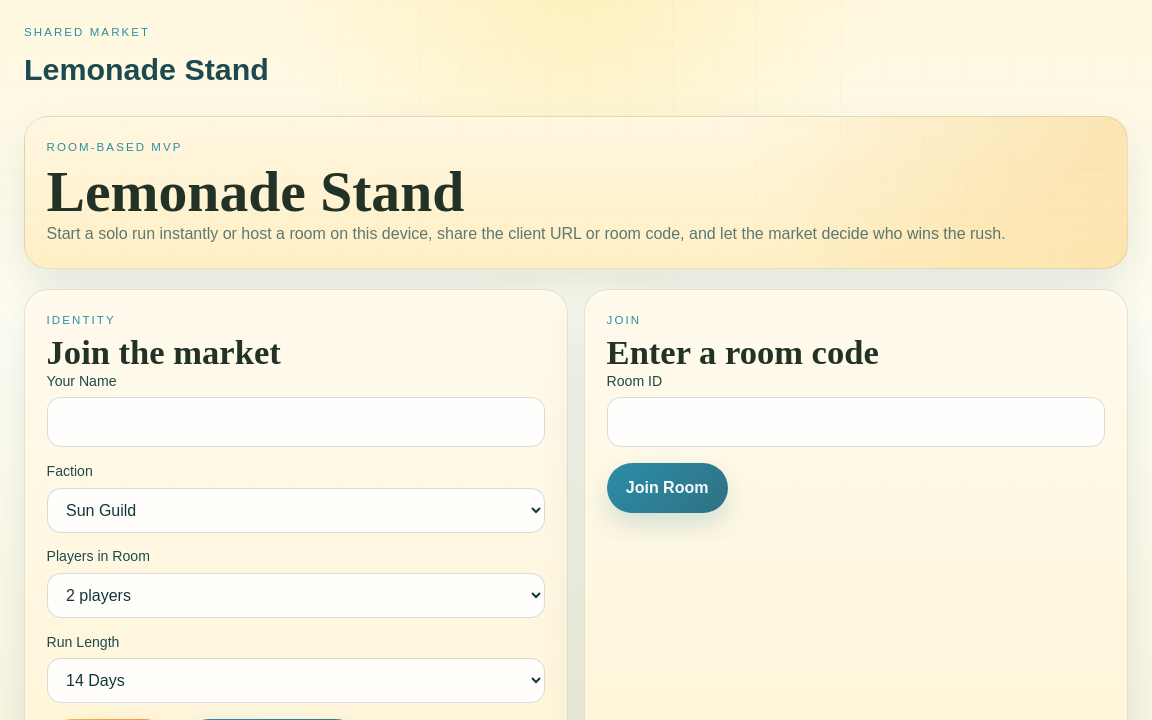
App › shows room wording in the waiting room after the host creates a room
Type "Alex" into the field labelled "Your Name" at coordinates (296, 422), box [47,397,545,447]
(page scrolled)
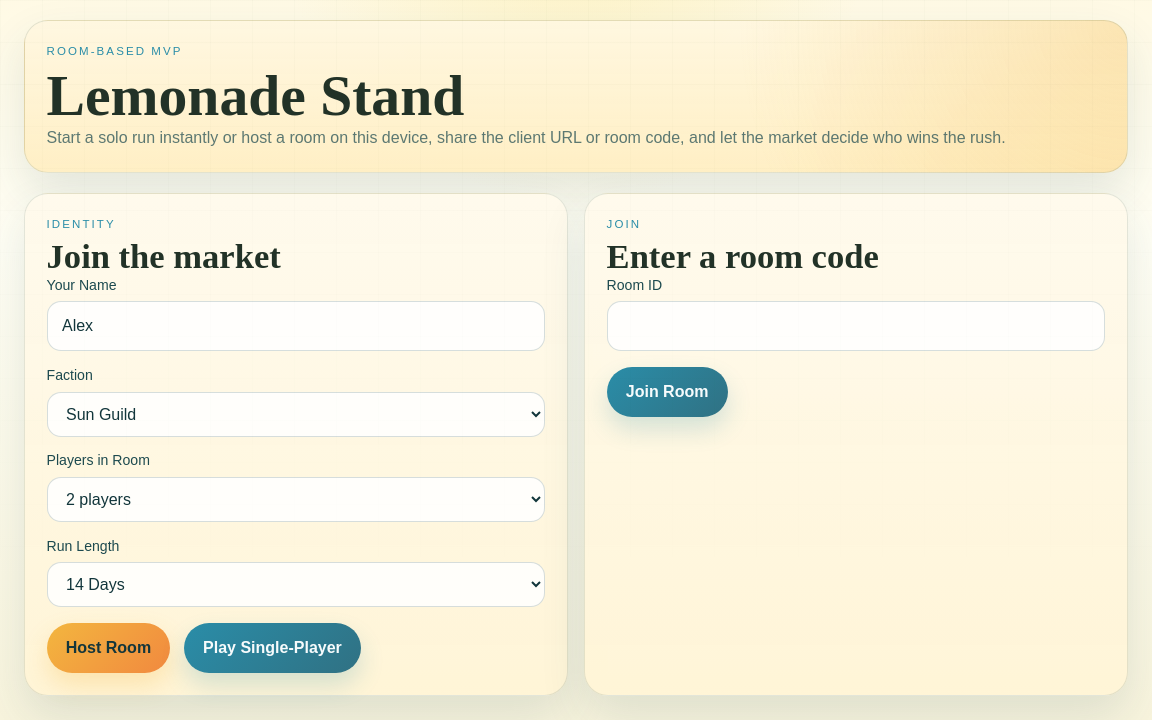
Click the button "Host Room" at coordinates (108, 648), box [47,623,170,673]
(page scrolled)
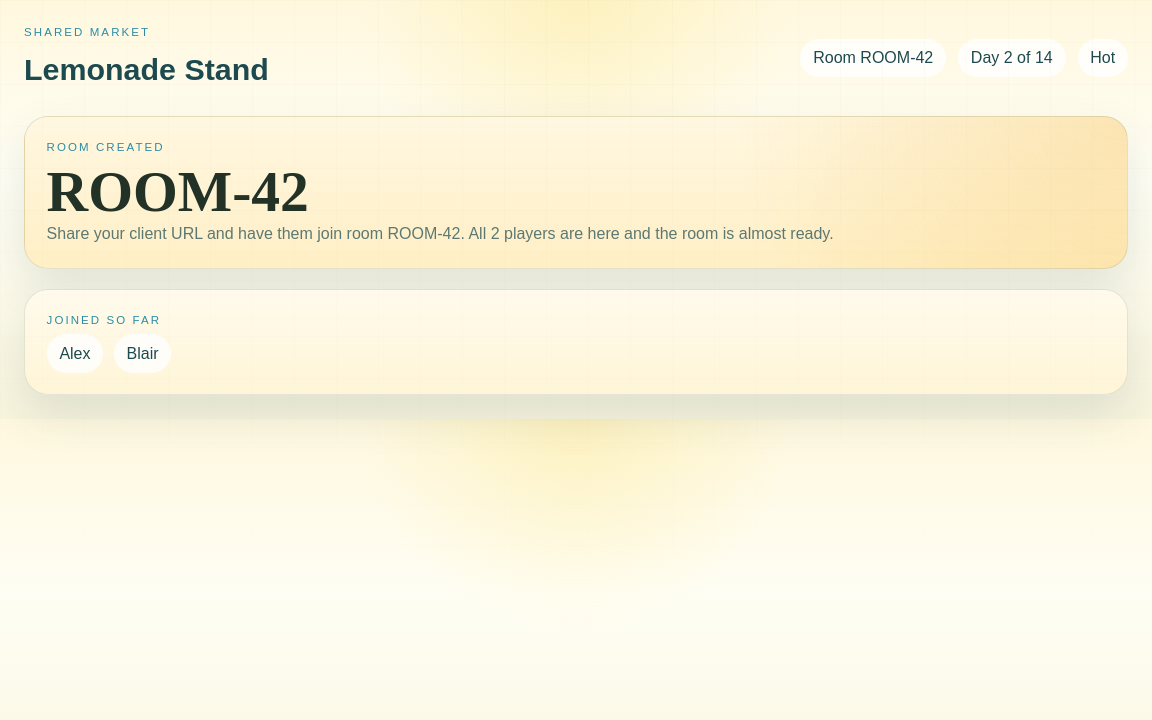
Result: the text "join room ROOM-42" is shown at [47,225,834,242]
